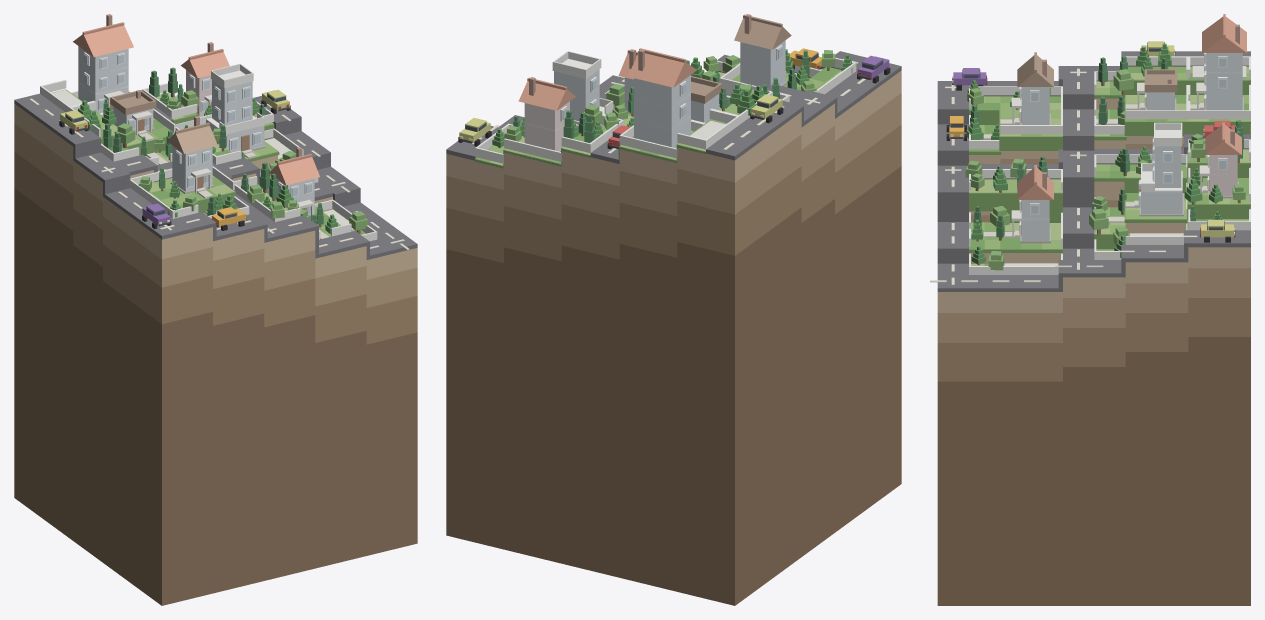
File: block_4_leakingdam_0.glb
The picture shows the model from 3 angles, left to right: view 1: azimuth 30°, elevation 25°; view 2: azimuth 150°, elevation 25°; view 3: azimuth 270°, elevation 25°; orthographic projection. The views are drawn at different scales.
Visible parts, largest first — view 1: Patch_UpperLeft_b03_LD, Bungalows_UpperLeft_b03_LD, Roads_UpperLeft_b03_LD, LawnSkirt_UpperLeft_b03_LD, RoadMarks_UpperLeft_b03_LD, ULCar_003_LD; view 2: Patch_UpperLeft_b03_LD, Bungalows_UpperLeft_b03_LD, Roads_UpperLeft_b03_LD, ULCar_014_LD, ULCar_010_LD, ULCar_015_LD; view 3: Patch_UpperLeft_b03_LD, Bungalows_UpperLeft_b03_LD, Roads_UpperLeft_b03_LD, LawnSkirt_UpperLeft_b03_LD, RoadMarks_UpperLeft_b03_LD, ULCar_010_LD, ULCar_015_LD, ULCar_003_LD.
Boxes of the visible parts, x1,y1,x2,y2 form: Patch_UpperLeft_b03_LD: [14, 104, 417, 605]; Bungalows_UpperLeft_b03_LD: [40, 14, 377, 241]; Roads_UpperLeft_b03_LD: [14, 93, 417, 259]; LawnSkirt_UpperLeft_b03_LD: [66, 89, 340, 225]; RoadMarks_UpperLeft_b03_LD: [29, 98, 409, 249]; ULCar_003_LD: [211, 207, 246, 230]; Patch_UpperLeft_b03_LD: [446, 70, 901, 605]; Bungalows_UpperLeft_b03_LD: [475, 14, 856, 168]; Roads_UpperLeft_b03_LD: [446, 51, 901, 163]; ULCar_014_LD: [750, 94, 783, 123]; ULCar_010_LD: [458, 118, 491, 146]; ULCar_015_LD: [857, 55, 890, 83]; Patch_UpperLeft_b03_LD: [937, 82, 1250, 605]; Bungalows_UpperLeft_b03_LD: [969, 14, 1250, 274]; Roads_UpperLeft_b03_LD: [937, 51, 1250, 291]; LawnSkirt_UpperLeft_b03_LD: [969, 79, 1250, 252]; RoadMarks_UpperLeft_b03_LD: [930, 68, 1197, 284]; ULCar_010_LD: [1200, 220, 1235, 242]; ULCar_015_LD: [952, 68, 987, 90]; ULCar_003_LD: [946, 116, 966, 140].
Size of the model in its own units: 9.5 by 16.52 by 9.72.
